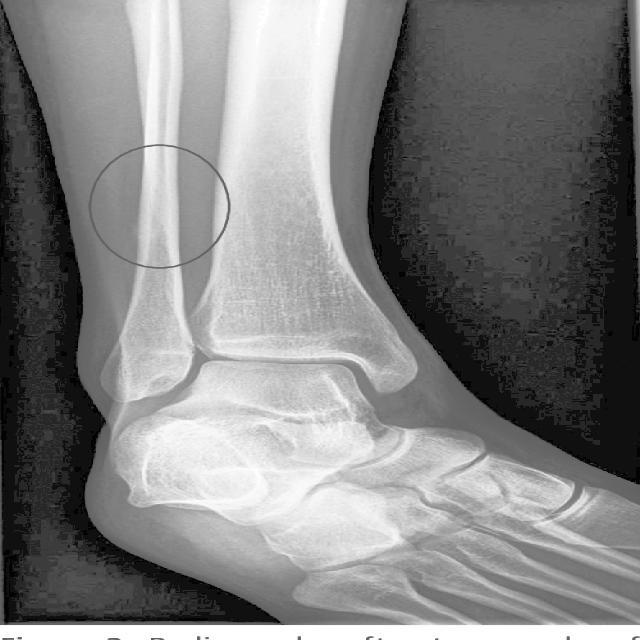HairLine Fracture: (140, 155, 180, 267)
